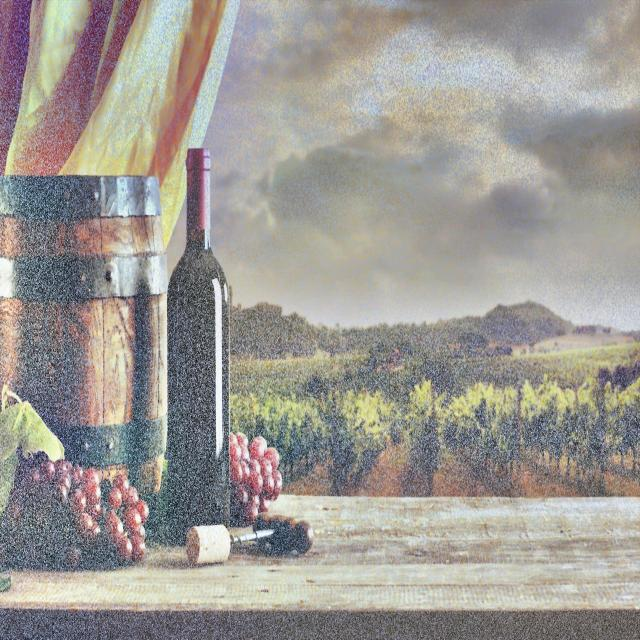cork: (183, 523, 232, 568)
